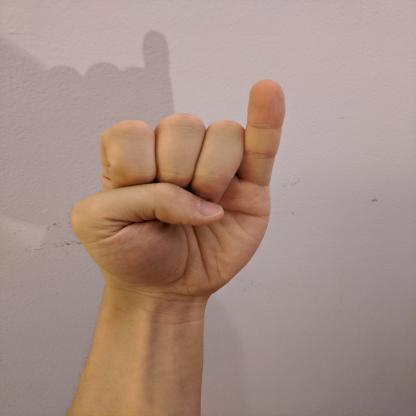I: (64, 75, 290, 304)
